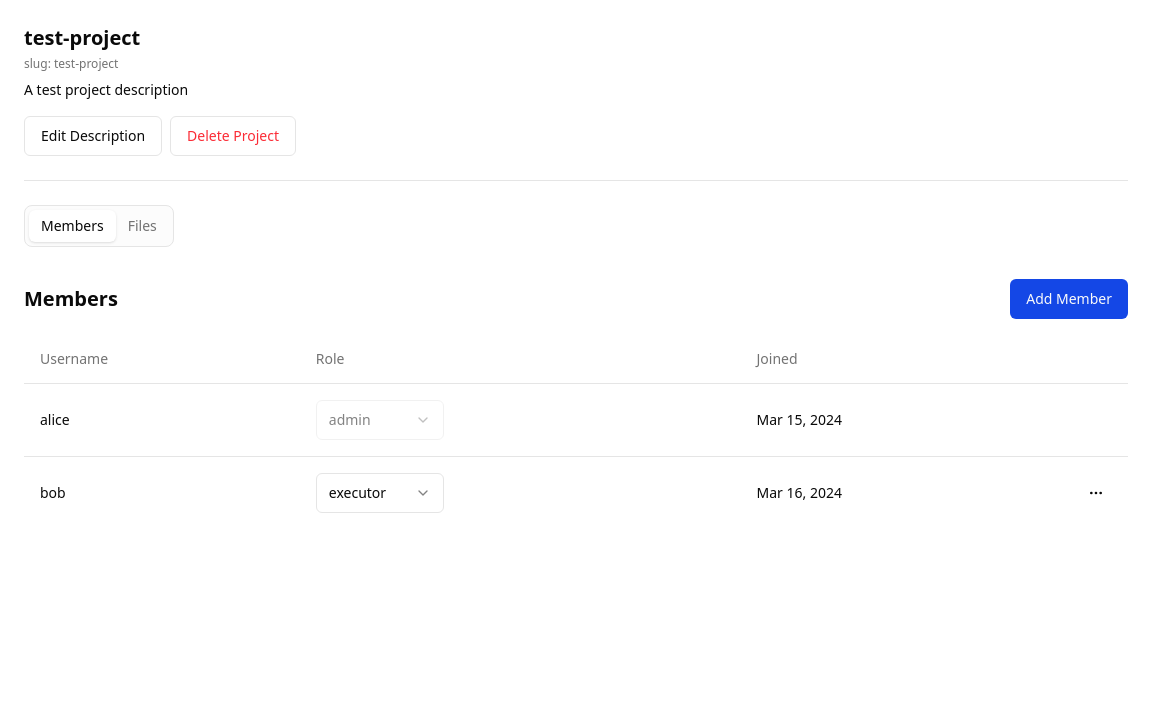
Test: ProjectDetailPage › filters managed files by search text
Step 1. Click the button "Files" → (142, 226), box [116,210,169,242]
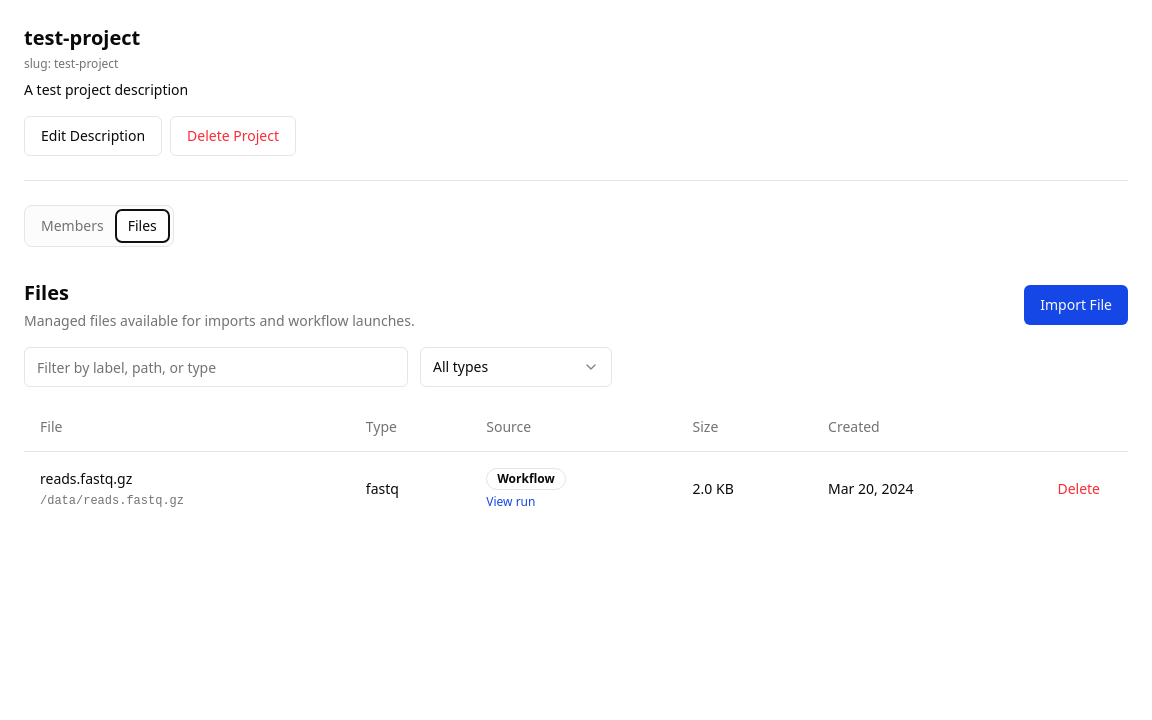
Step 2. Type "missing" into the field with placeholder "Filter by label, path, or type" → (216, 367), box [24,347,408,387]
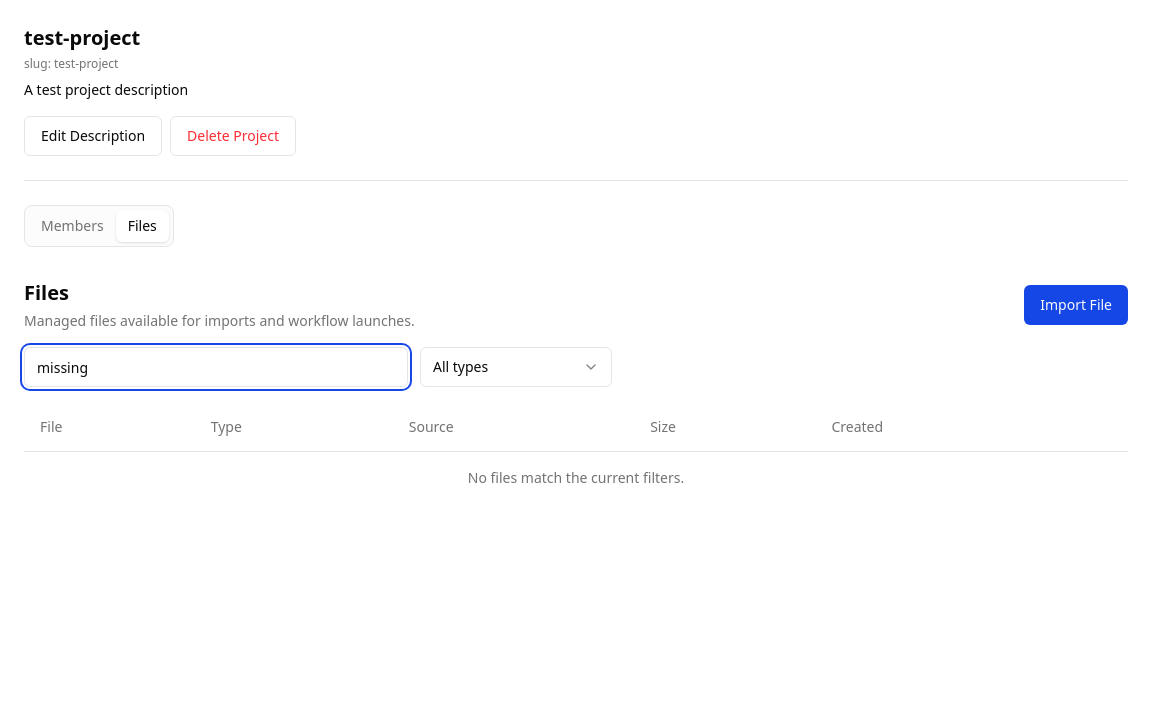
Expected: the text "No files match the current filters." is shown, [24,451,1128,504]
